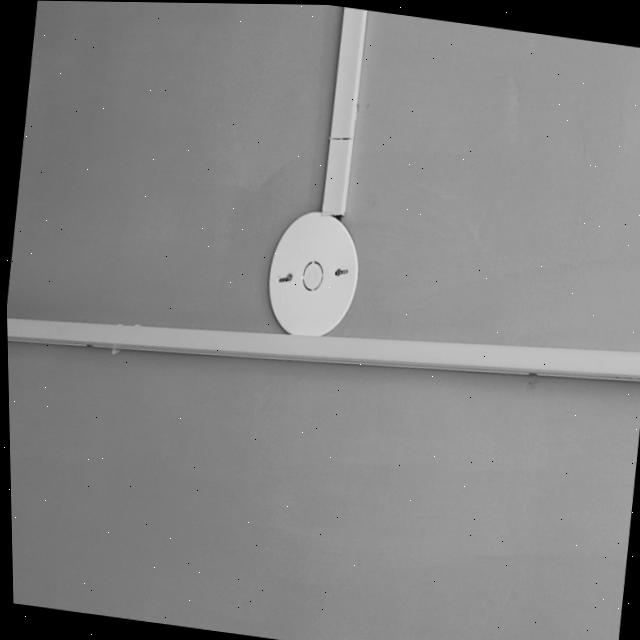light_off: (4, 245, 640, 439)
